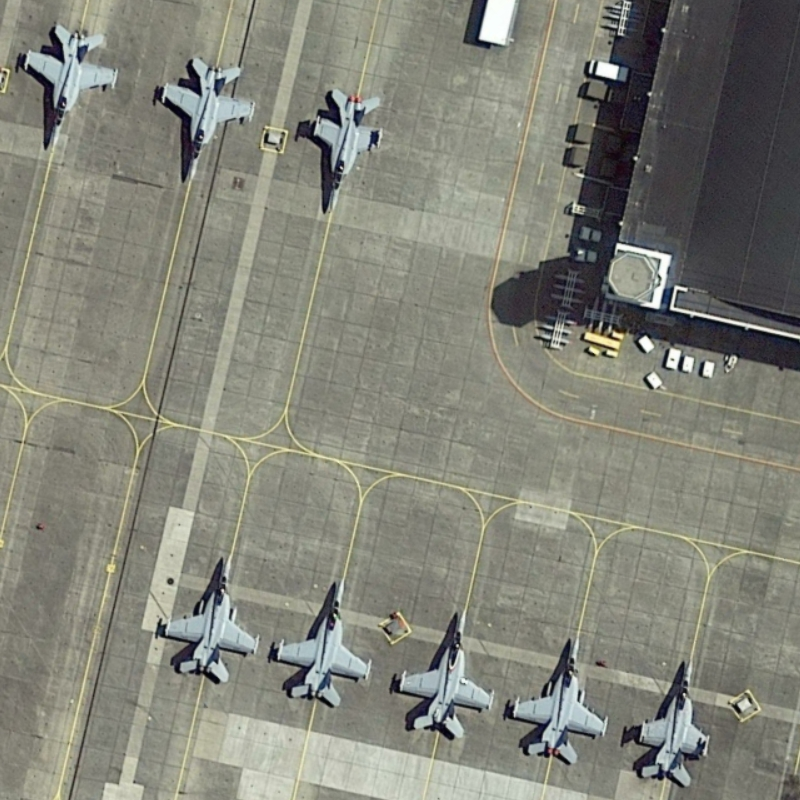A16: (382, 600, 499, 748), (152, 541, 263, 690), (263, 575, 376, 714), (501, 629, 610, 773), (14, 16, 125, 155), (152, 50, 263, 185), (621, 645, 720, 794), (304, 78, 387, 222)
